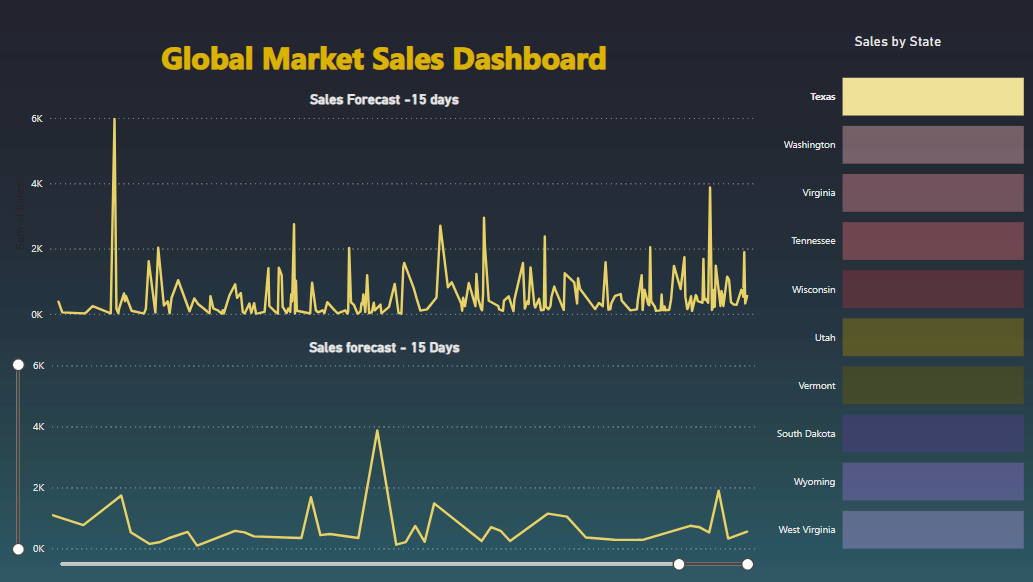

Layout of this report page (visuals, bound fields, positions):
{"tool":"powerbi","page":{"name":"forecast","canvas":[1280,720],"ordinal":1},"visuals":[{"type":"lineChart","title":" Sales Forecast -15 days ","fields":{"Y":["Sum(SuperStore_Sales_Dataset.Sales)"],"Category":["SuperStore_Sales_Dataset.Order Date"]},"box":[13.3,111.7,923.3,288.3],"z":0},{"type":"lineChart","title":" Sales forecast - 15 Days","fields":{"Y":["Sum(SuperStore_Sales_Dataset.Sales)"],"Category":["SuperStore_Sales_Dataset.Order Date"]},"box":[13.3,416.7,923.3,288.3],"z":1000},{"type":"hundredPercentStackedBarChart","title":" Sales by State","fields":{"Category":["SuperStore_Sales_Dataset.State"],"Y":["Sum(SuperStore_Sales_Dataset.Sales)"]},"box":[948.3,40,320,665],"z":3000},{"type":"textbox","box":[100,40,750,71.7],"z":3001}]}

Visuals, with their boxes in screenshot pixels (x1, y1, x2, y2), scaled from the page's 1280x720 canvas onto the 1033x582 screenshot:
" Sales Forecast -15 days " lineChart: x1=11, y1=90, x2=756, y2=323
" Sales forecast - 15 Days" lineChart: x1=11, y1=337, x2=756, y2=570
" Sales by State" hundredPercentStackedBarChart: x1=765, y1=32, x2=1024, y2=570
textbox: x1=81, y1=32, x2=686, y2=90
